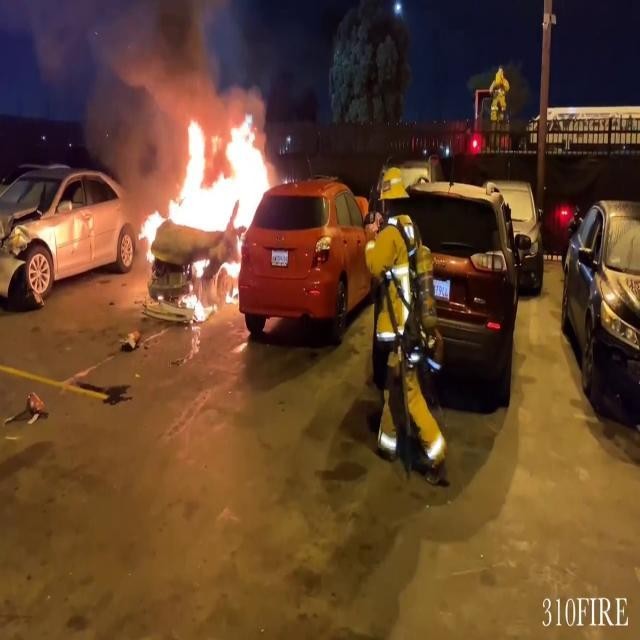Fire: (136, 109, 282, 313)
Smoke: (95, 1, 248, 132)
